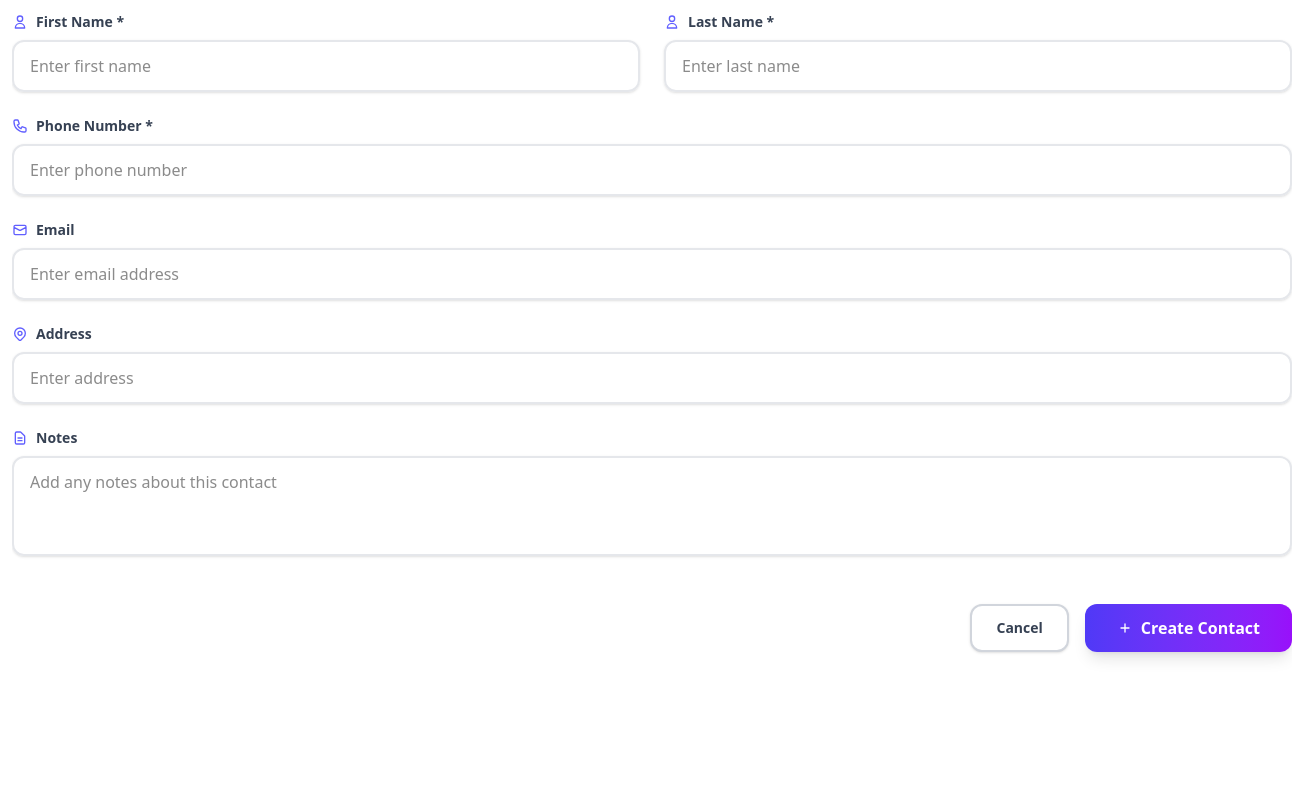
Scenario: ContactForm › error handling › should display error message when submission fails
In the field labelled "First Name *": (326, 66) [12,40,640,92], type "John"
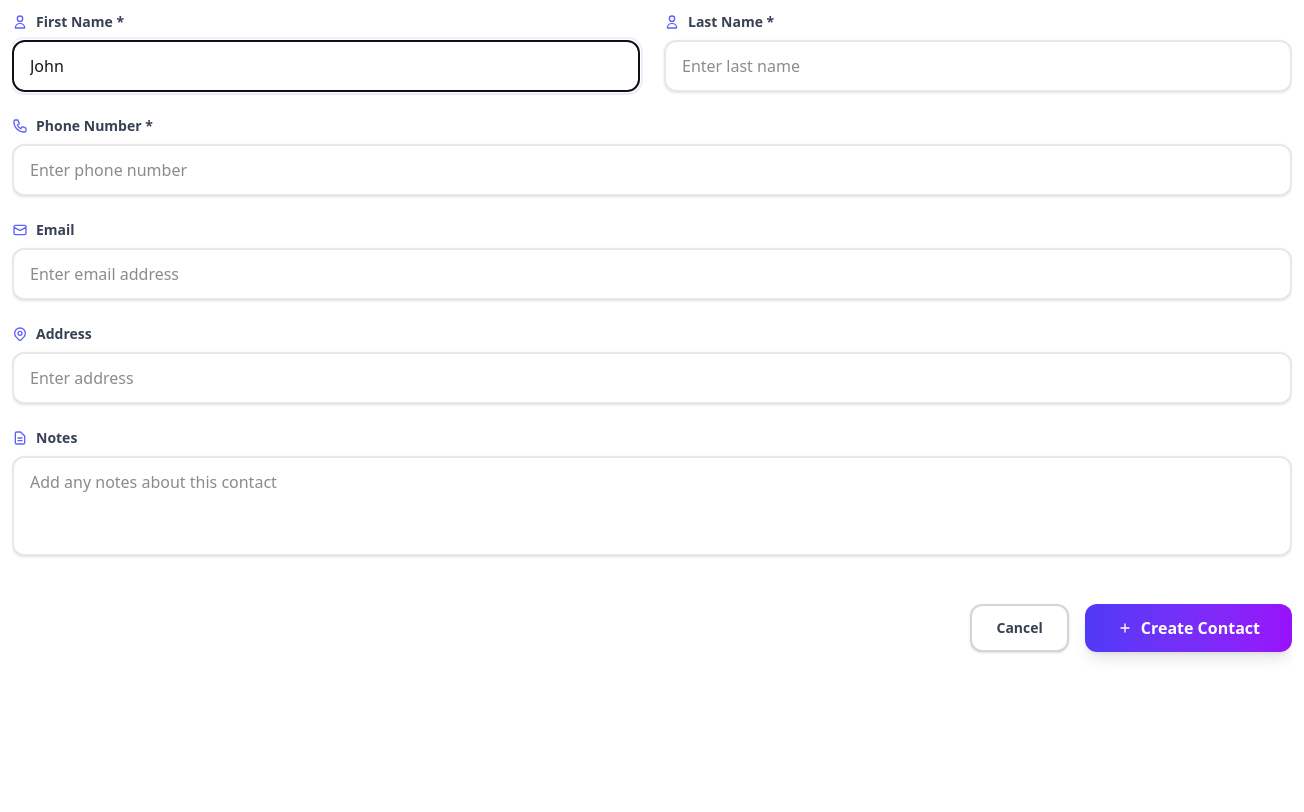
In the field labelled "Last Name *": (978, 66) [664,40,1292,92], type "Doe"
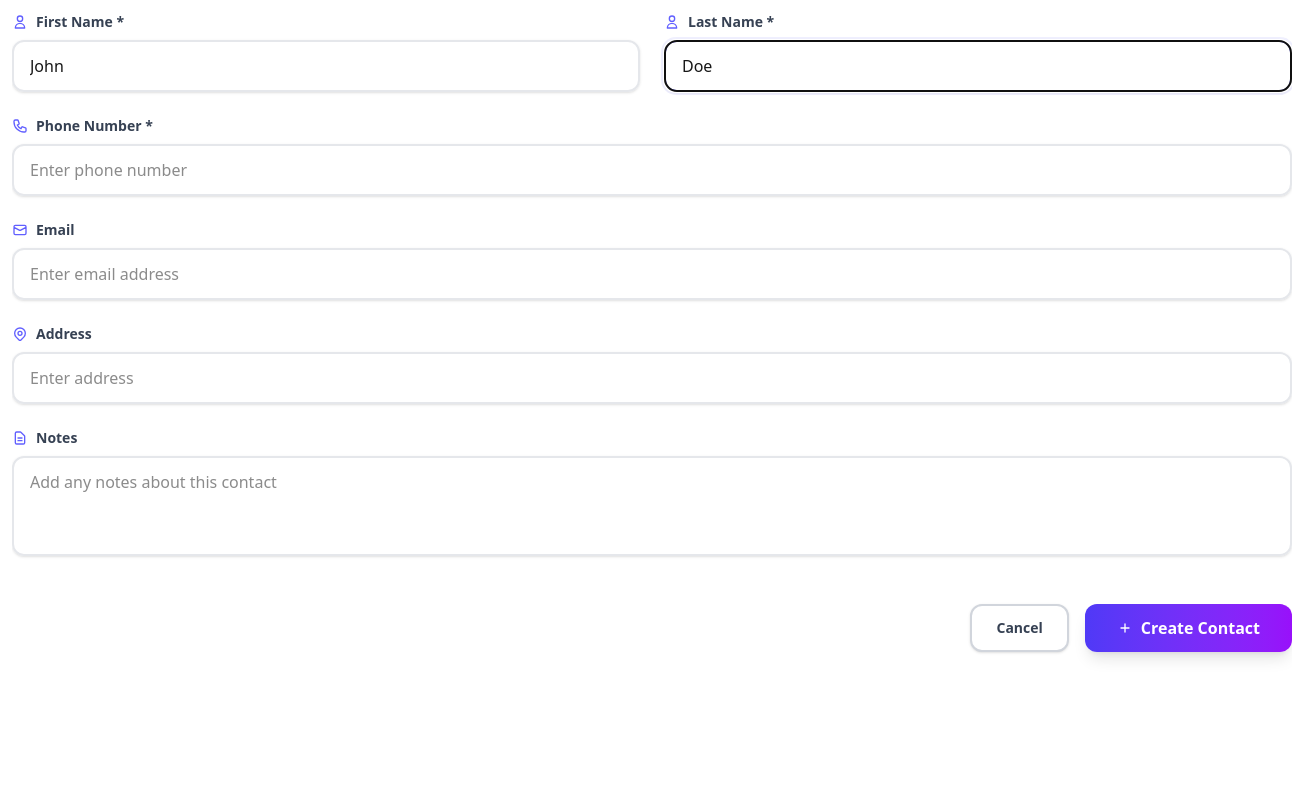
In the field labelled "Phone Number *": (652, 170) [12,144,1292,196], type "invalid"
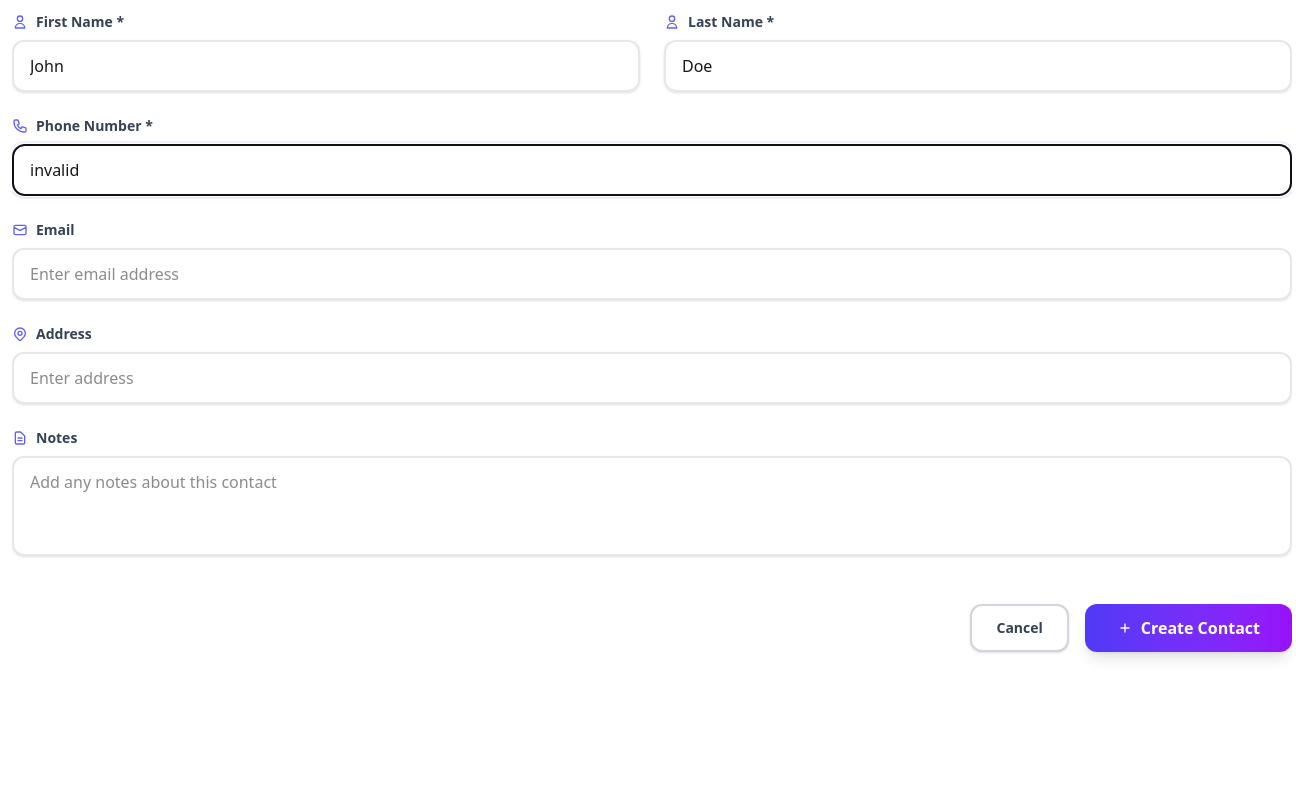
Click the button "Create Contact": (1188, 628) [1085,604,1292,652]
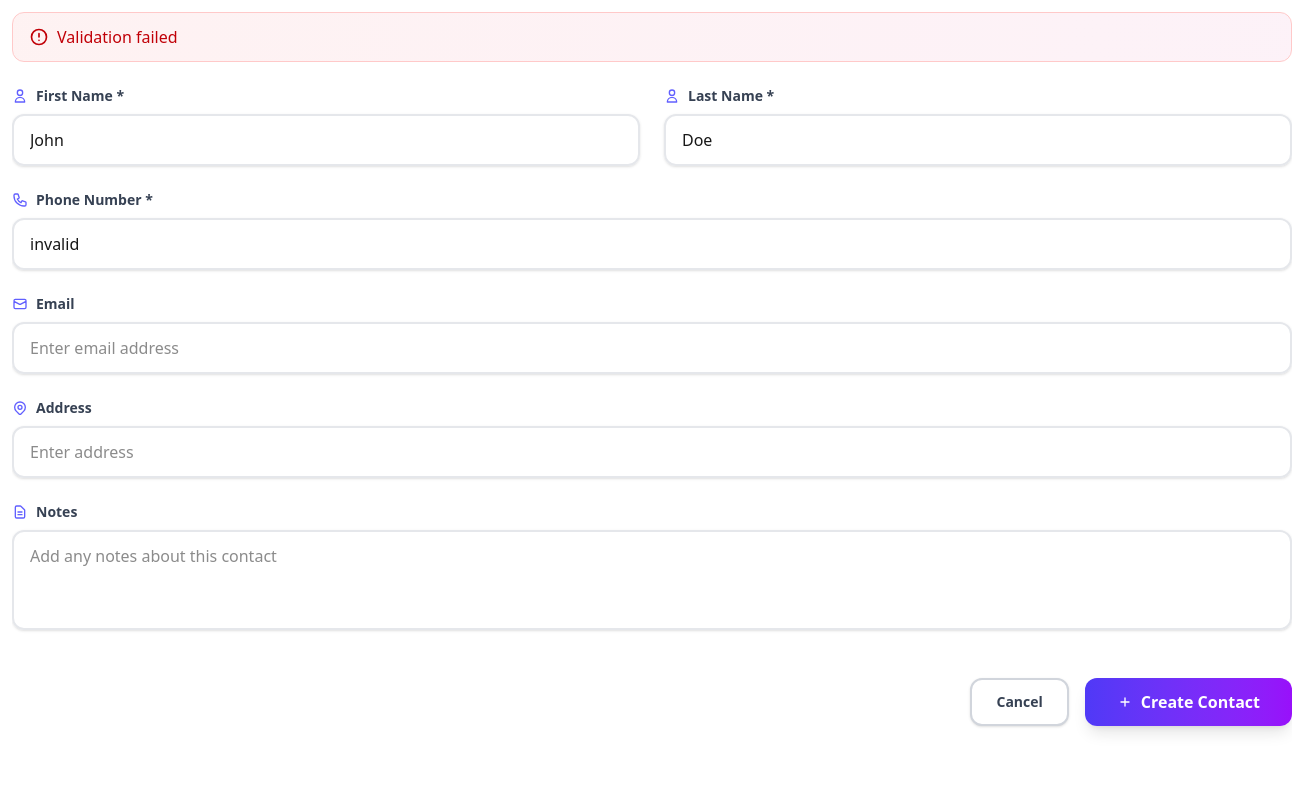
expect the button "Create Contact" is enabled: met, box [1085,678,1292,726]
expect the text "Validation failed" is shown: met, box [12,12,1292,62]
